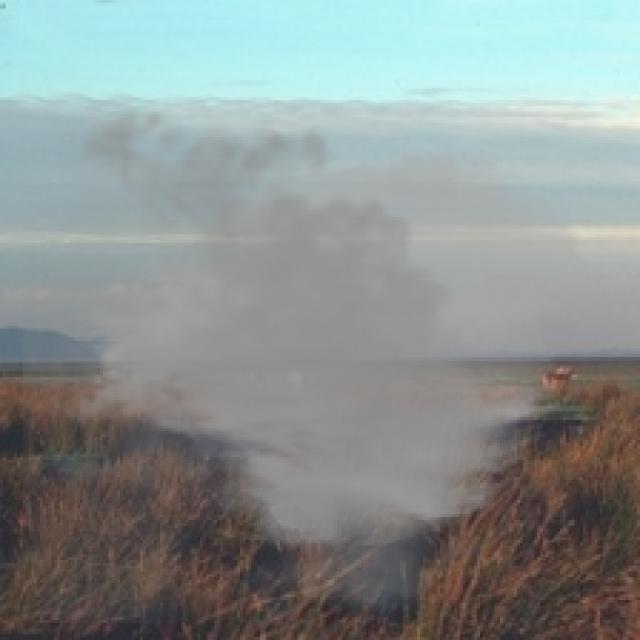smoke: (23, 91, 591, 623)
